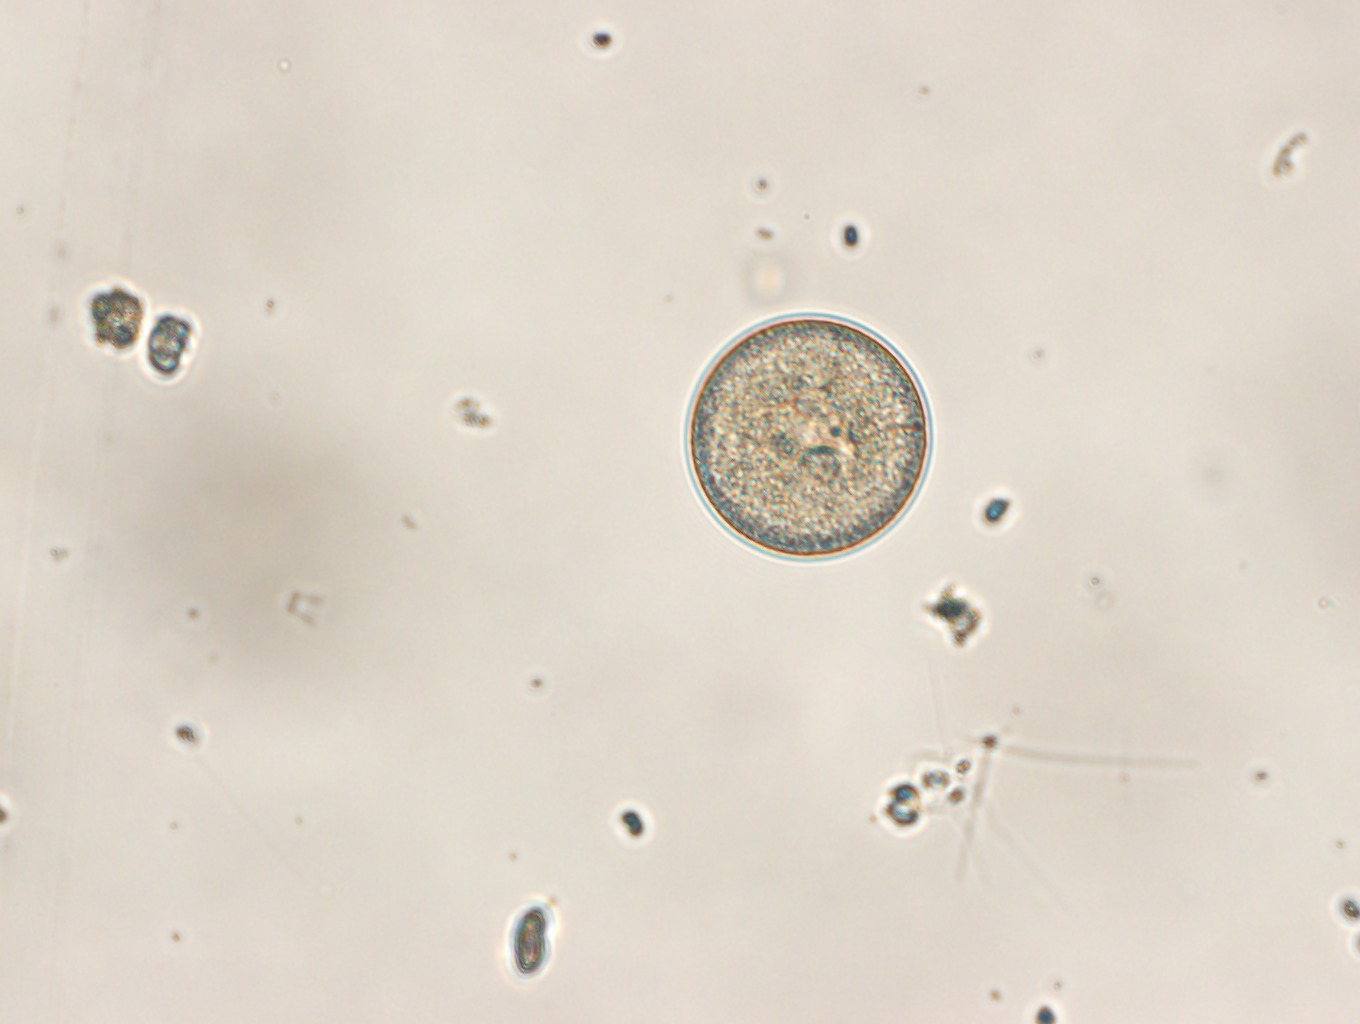coscinodiscus: (683, 312, 933, 561)
